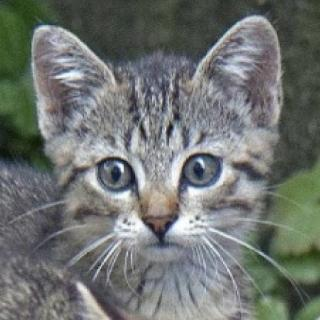cat: (22, 13, 288, 268)
nose: (138, 187, 185, 244)
